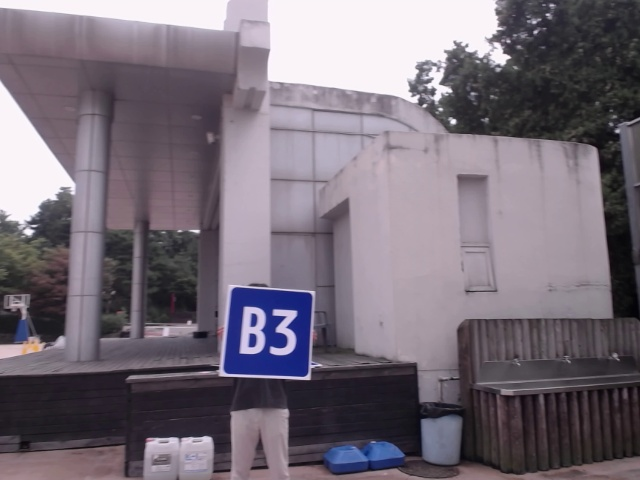delivery_b3: (224, 286, 314, 380)
